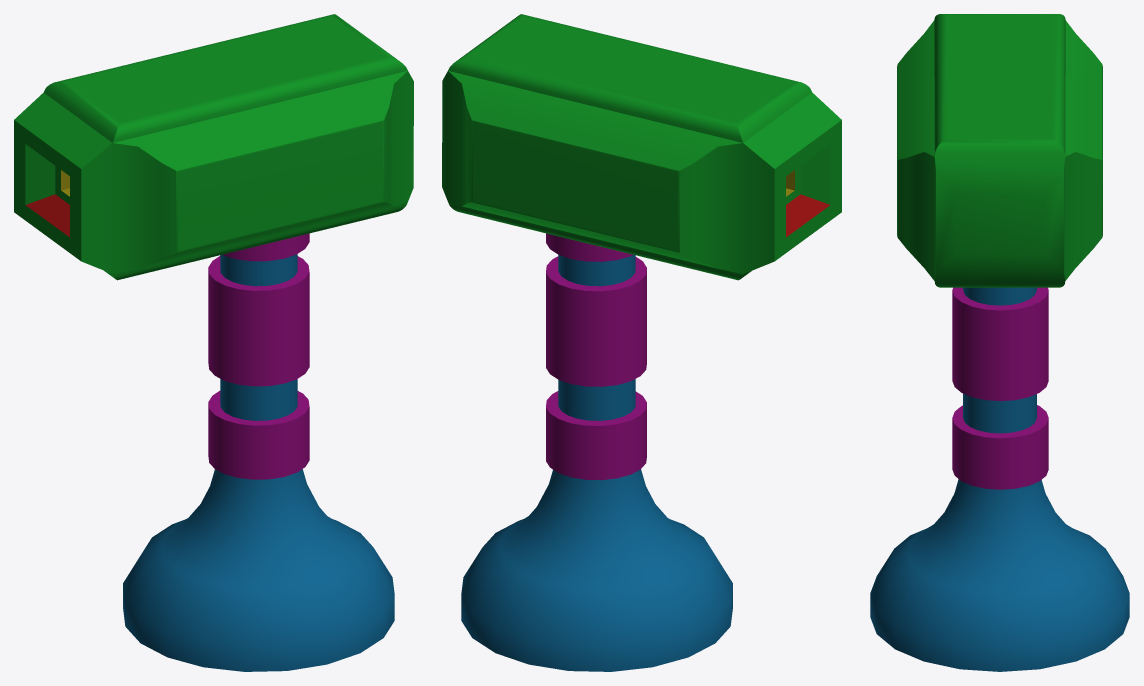
Rendered from SM_RecepteurLaser.fbx.
3 views of the same model, side by side, from view 1: azimuth 30°, elevation 25°; view 2: azimuth 150°, elevation 25°; view 3: azimuth 270°, elevation 25° (orthographic). The views are drawn at different scales.
Visible parts, largest first — view 1: pCylinder12; view 2: pCylinder12; view 3: pCylinder12.
Boxes of the visible parts, x1,y1,x2,y2 form: pCylinder12: (14,14,413,671); pCylinder12: (442,14,841,671); pCylinder12: (870,14,1129,671).
Bounding box in the file's own units: 15.65 × 24.43 × 10.93.
